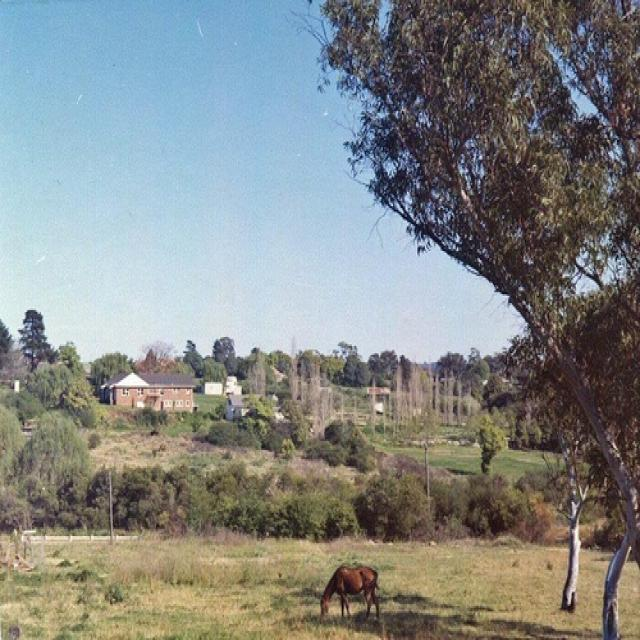horse: (317, 560, 384, 628)
